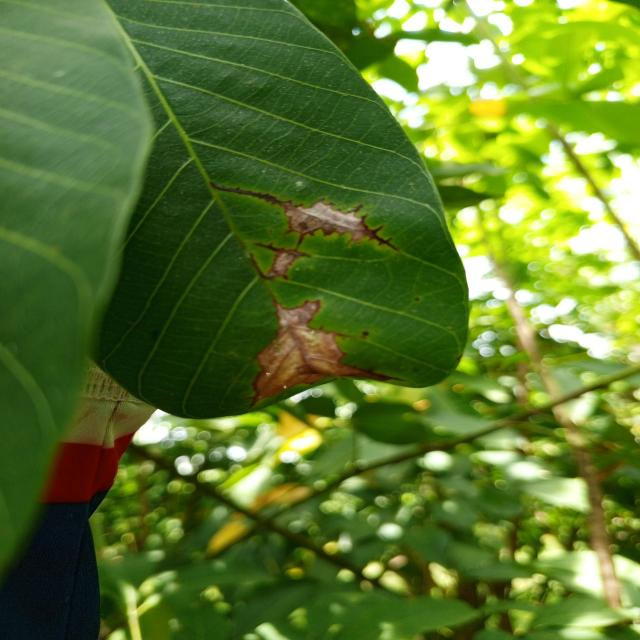Corynespora: (210, 181, 398, 253), (211, 182, 289, 207), (254, 241, 312, 257), (366, 224, 397, 251), (248, 253, 272, 280)
Leaf-Blight: (252, 301, 388, 401), (286, 202, 369, 244), (268, 254, 294, 278)
